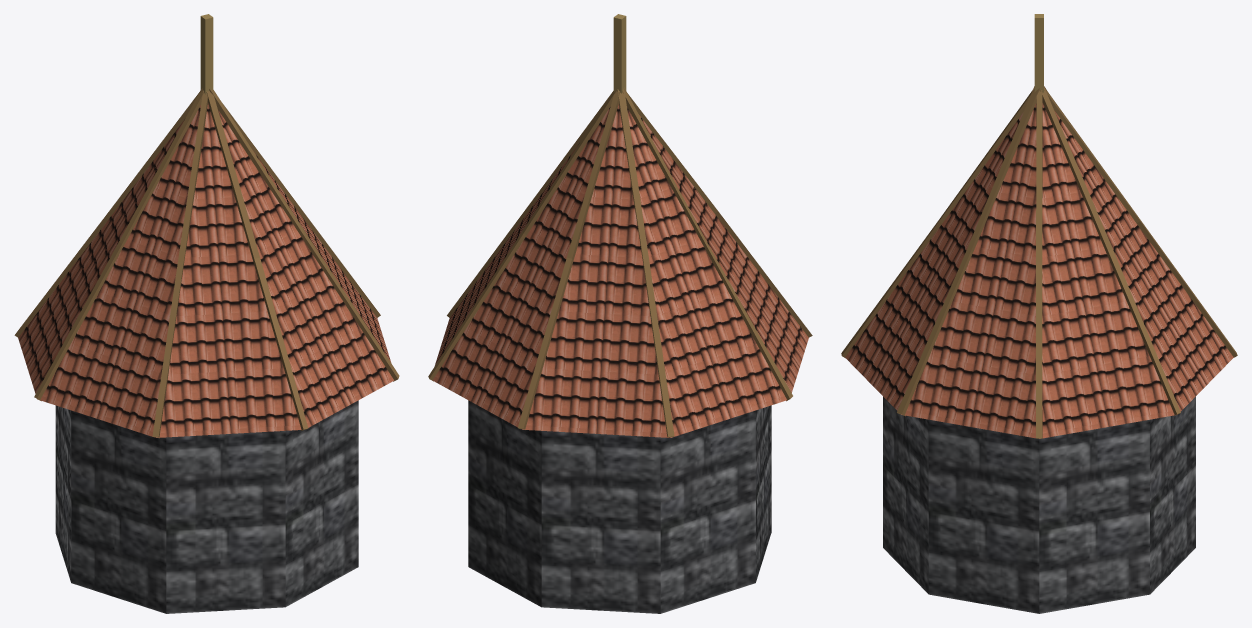
File: town_Turret_corner.glb
The picture shows the model from 3 angles, left to right: view 1: azimuth 30°, elevation 25°; view 2: azimuth 150°, elevation 25°; view 3: azimuth 270°, elevation 25°; orthographic projection.
Parts seen in each view (by area): view 1: town_Turret_corner.005; view 2: town_Turret_corner.005; view 3: town_Turret_corner.005.
Boxes of the visible parts, left/top/right/bottom form: town_Turret_corner.005: left=14, top=14, right=399, bottom=613; town_Turret_corner.005: left=428, top=14, right=812, bottom=613; town_Turret_corner.005: left=841, top=14, right=1237, bottom=613.
Size of the model in its own units: 2.53 by 3.75 by 2.53.
3 materials, 2 textured.
